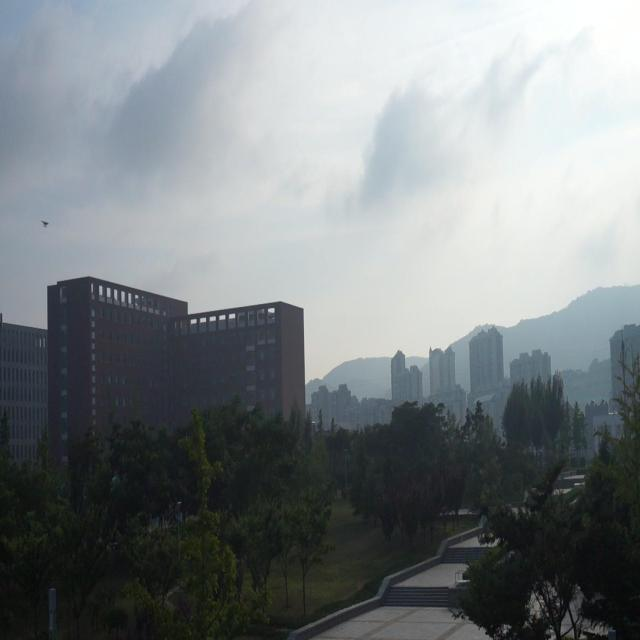drone: (40, 217, 51, 230)
